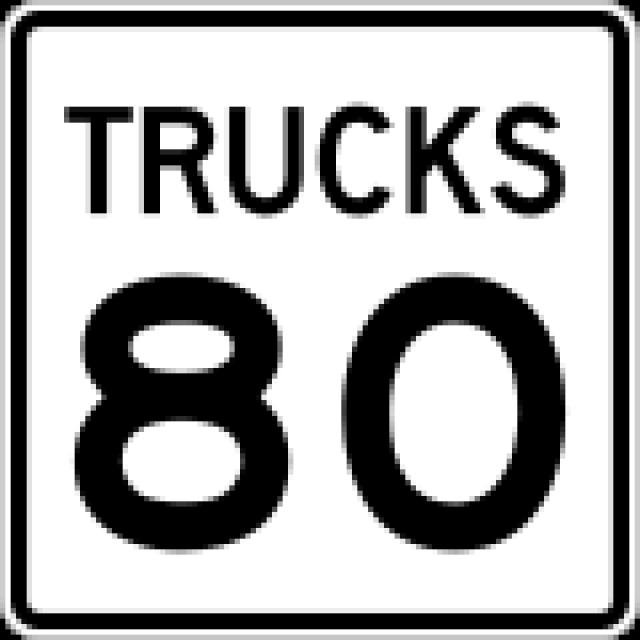Speed Limit -80-: (39, 242, 576, 563)
